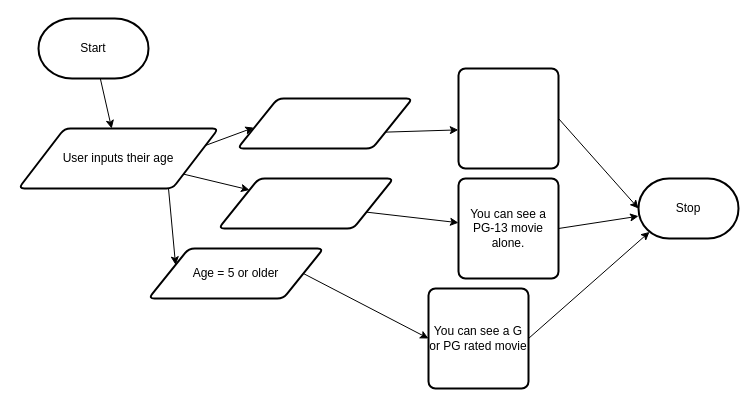
This 756x406 diagram has some shape labels left out. The box of each missing label's shape, as (x1, y1, x2, y2) in pixels:
Age = 13 or older: (217, 177, 394, 229)
Age = 17 or older: (236, 97, 413, 149)
You can see an R rated movie alone.: (457, 67, 559, 169)
